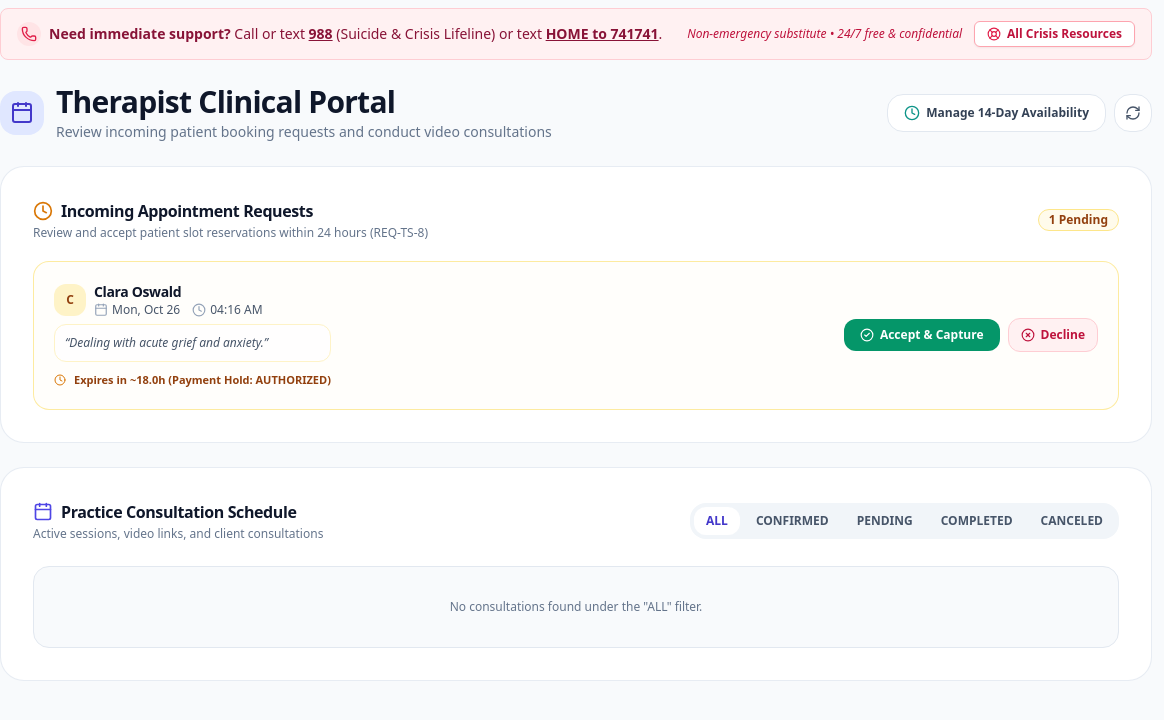
Role-Based Access Control & Therapist Management Actions › allows THERAPIST access to therapist portal and incoming requests
Check: the heading "Clara Oswald" is shown, box [94,282,181,301]
Check: the text "“Dealing with acute grief and anxiety.”" is shown, box [54,324,331,362]
Accept action
Click the button with test id "accept-request-btn-req-seek-001" at (922, 335), box [844,319,1000,351]
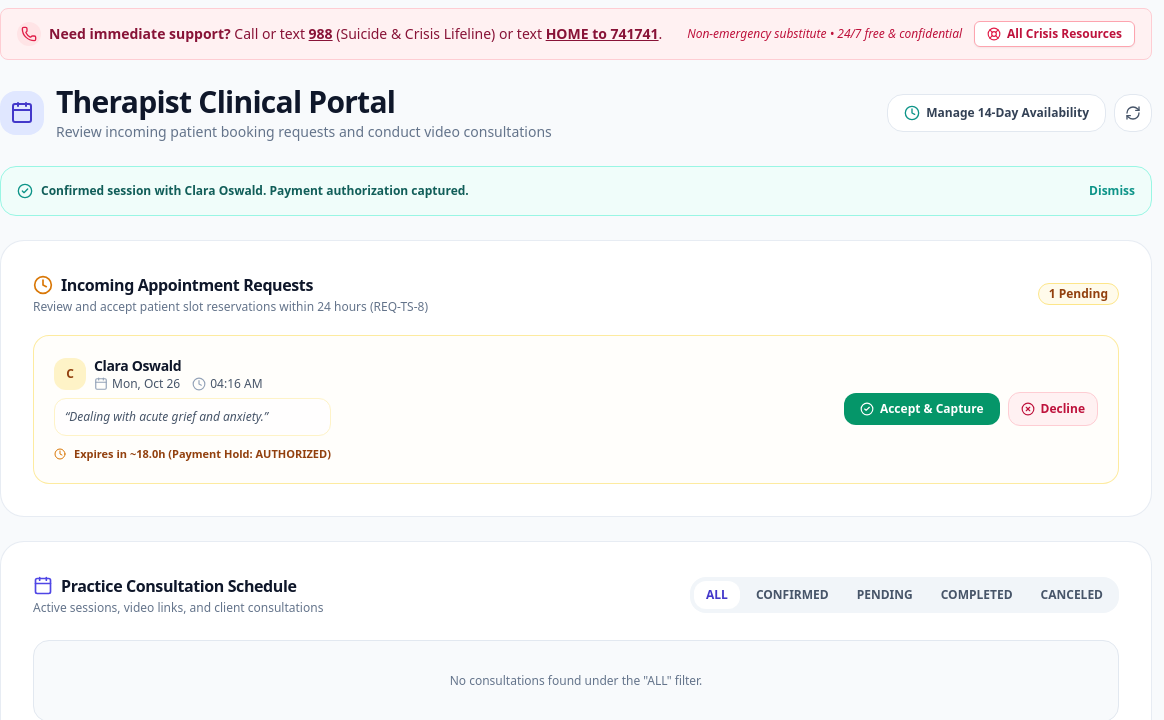
Check: the element with test id "action-feedback-banner" shows "Payment authorization captured", box [41,182,469,199]
